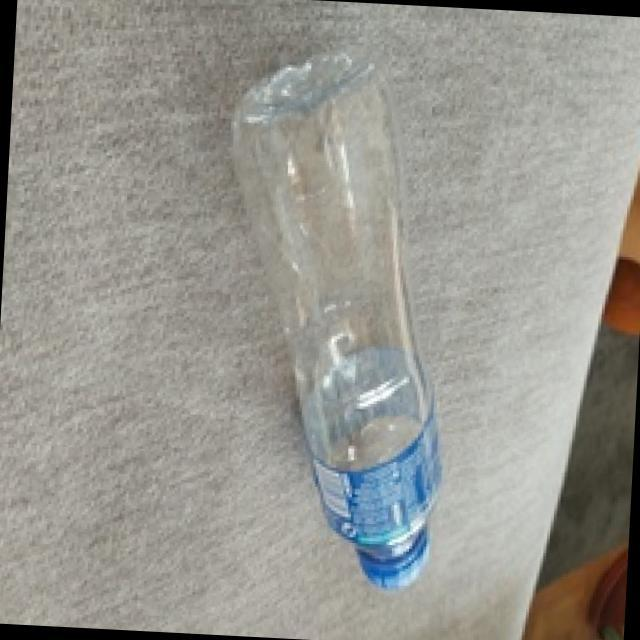good: (201, 24, 455, 605)
